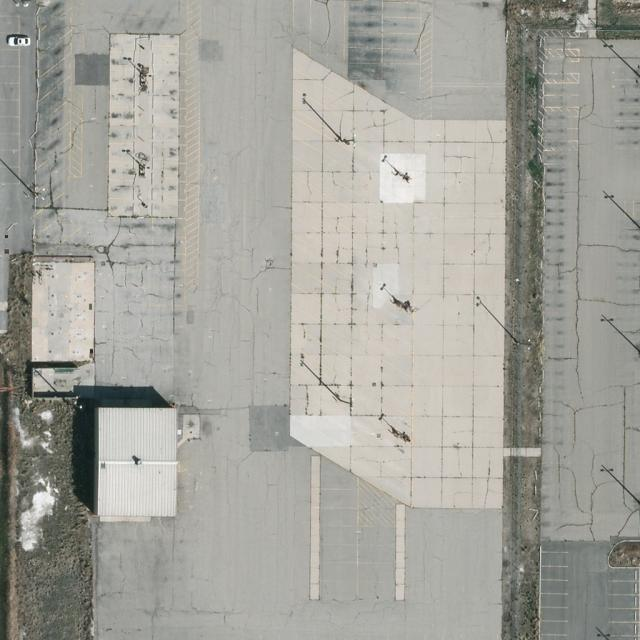vehicle: (8, 38, 31, 46)
